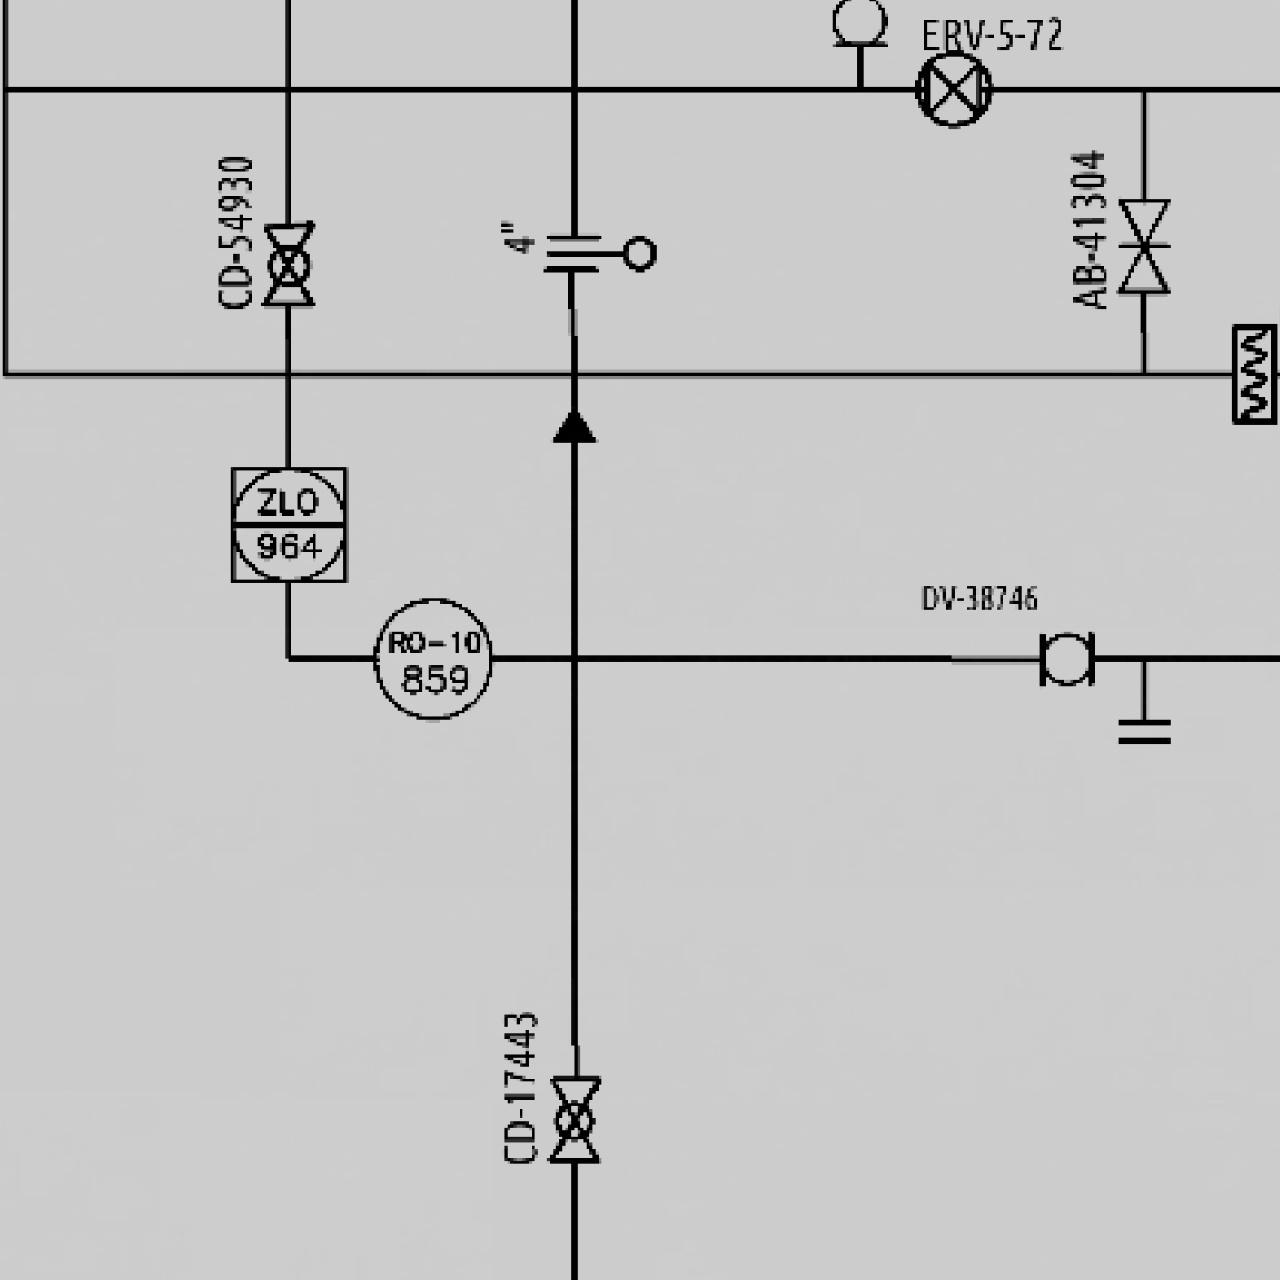Control-Panel: (366, 592, 498, 724)
